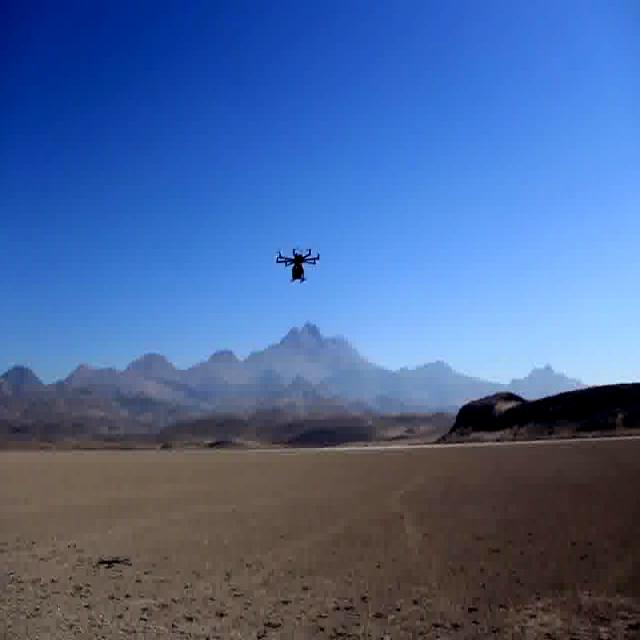drone: (273, 244, 325, 286)
